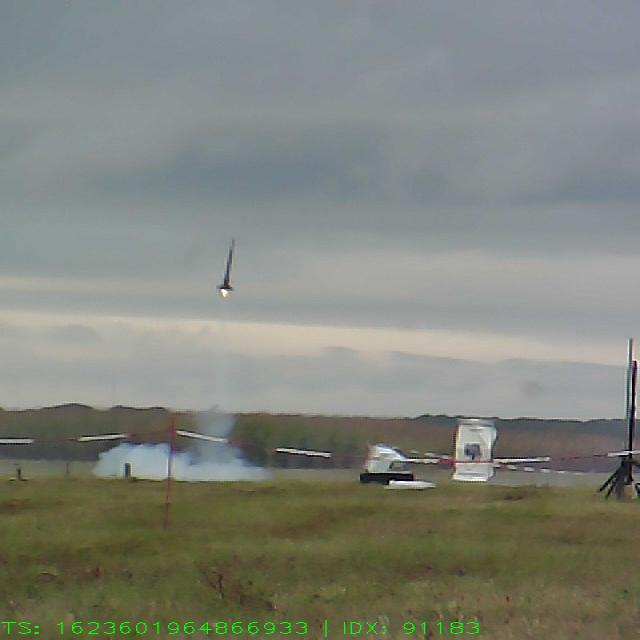Rocket: (214, 236, 237, 290)
